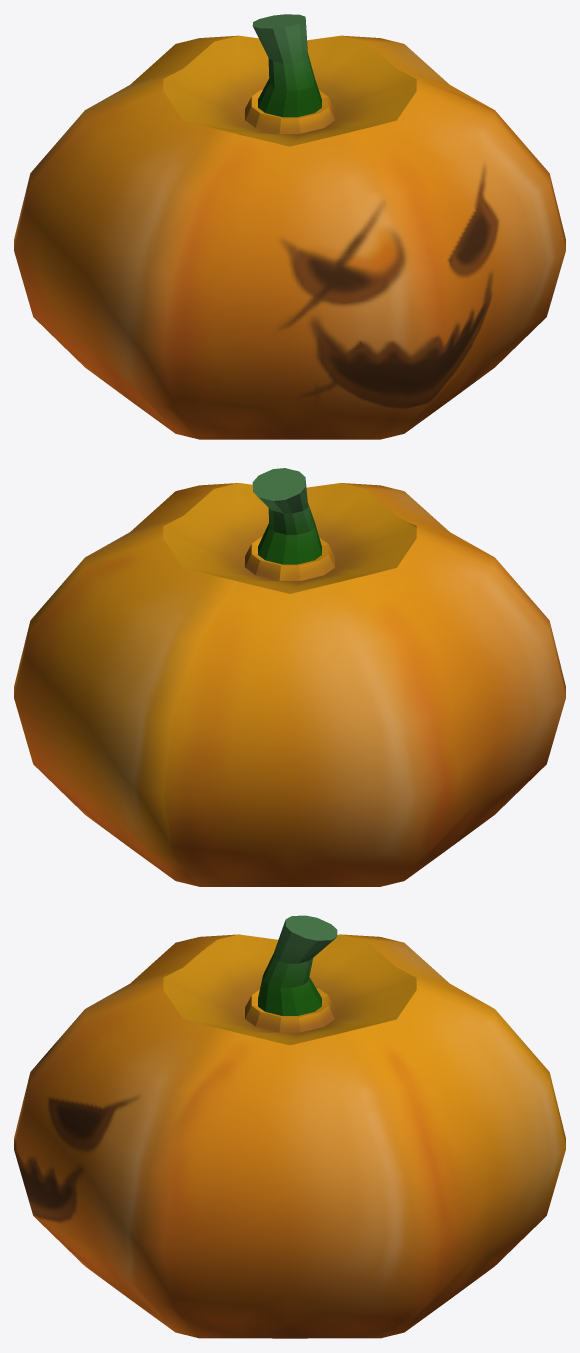
File: Env_mesh_pumpkin_001.FBX
The picture shows the model from 3 angles, top to bottom: view 1: azimuth 30°, elevation 25°; view 2: azimuth 150°, elevation 25°; view 3: azimuth 270°, elevation 25°; orthographic projection.
Visible parts, largest first — view 1: Cylinder010; view 2: Cylinder010; view 3: Cylinder010.
Boxes of the visible parts, box(x1,y1,x2,y2) form: Cylinder010: box(14, 14, 565, 439); Cylinder010: box(14, 468, 565, 886); Cylinder010: box(14, 915, 565, 1338).
Size of the model in its own units: 18.82 by 14.27 by 21.14.
